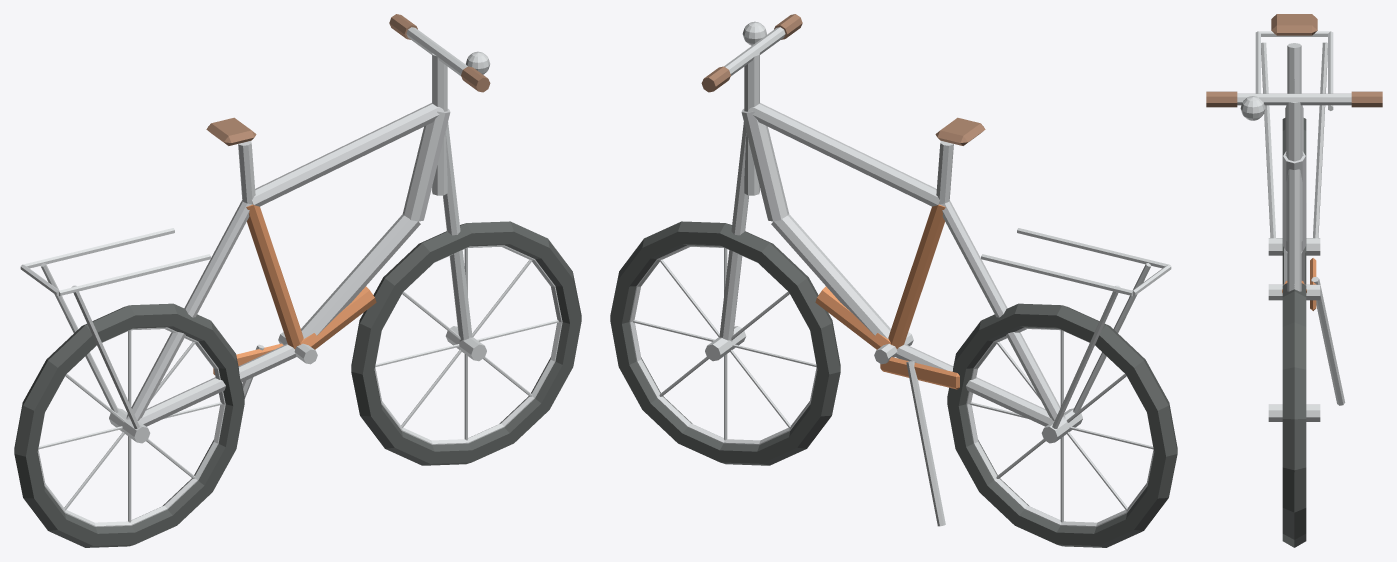
File: xinhua-vintage-bicycle-visible-low.glb
3 renders of one model, left to right at view 1: azimuth 30°, elevation 25°; view 2: azimuth 150°, elevation 25°; view 3: azimuth 270°, elevation 25°, orthographic.
Visible parts, largest first — view 1: GEO-xinhua-vintage-bicycle-tire, GEO-xinhua-vintage-bicycle-metal, GEO-xinhua-vintage-bicycle-frame, GEO-xinhua-vintage-bicycle-accent, GEO-xinhua-vintage-bicycle-seat; view 2: GEO-xinhua-vintage-bicycle-tire, GEO-xinhua-vintage-bicycle-metal, GEO-xinhua-vintage-bicycle-frame, GEO-xinhua-vintage-bicycle-accent, GEO-xinhua-vintage-bicycle-seat; view 3: GEO-xinhua-vintage-bicycle-metal, GEO-xinhua-vintage-bicycle-tire, GEO-xinhua-vintage-bicycle-seat, GEO-xinhua-vintage-bicycle-frame, GEO-xinhua-vintage-bicycle-accent.
Part boxes in pixels (x1,y1,x2,y2): GEO-xinhua-vintage-bicycle-tire: (14, 221, 581, 547); GEO-xinhua-vintage-bicycle-metal: (20, 27, 562, 526); GEO-xinhua-vintage-bicycle-frame: (126, 103, 450, 426); GEO-xinhua-vintage-bicycle-accent: (213, 204, 376, 374); GEO-xinhua-vintage-bicycle-seat: (206, 14, 490, 145); GEO-xinhua-vintage-bicycle-tire: (610, 221, 1177, 547); GEO-xinhua-vintage-bicycle-metal: (629, 21, 1171, 526); GEO-xinhua-vintage-bicycle-frame: (741, 103, 1065, 426); GEO-xinhua-vintage-bicycle-accent: (815, 204, 959, 389); GEO-xinhua-vintage-bicycle-seat: (701, 14, 985, 145); GEO-xinhua-vintage-bicycle-metal: (1237, 31, 1351, 421); GEO-xinhua-vintage-bicycle-tire: (1282, 118, 1306, 547); GEO-xinhua-vintage-bicycle-seat: (1206, 14, 1382, 107); GEO-xinhua-vintage-bicycle-frame: (1283, 106, 1305, 284); GEO-xinhua-vintage-bicycle-accent: (1282, 258, 1316, 310).
Size of the model in its own units: 0.64 by 0.462 by 0.17.
